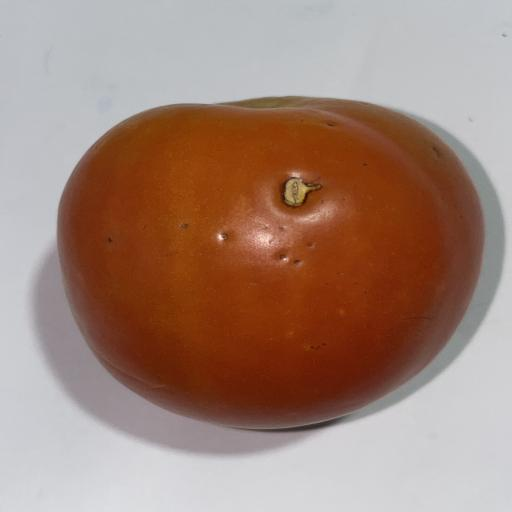ripe: (57, 97, 484, 429)
